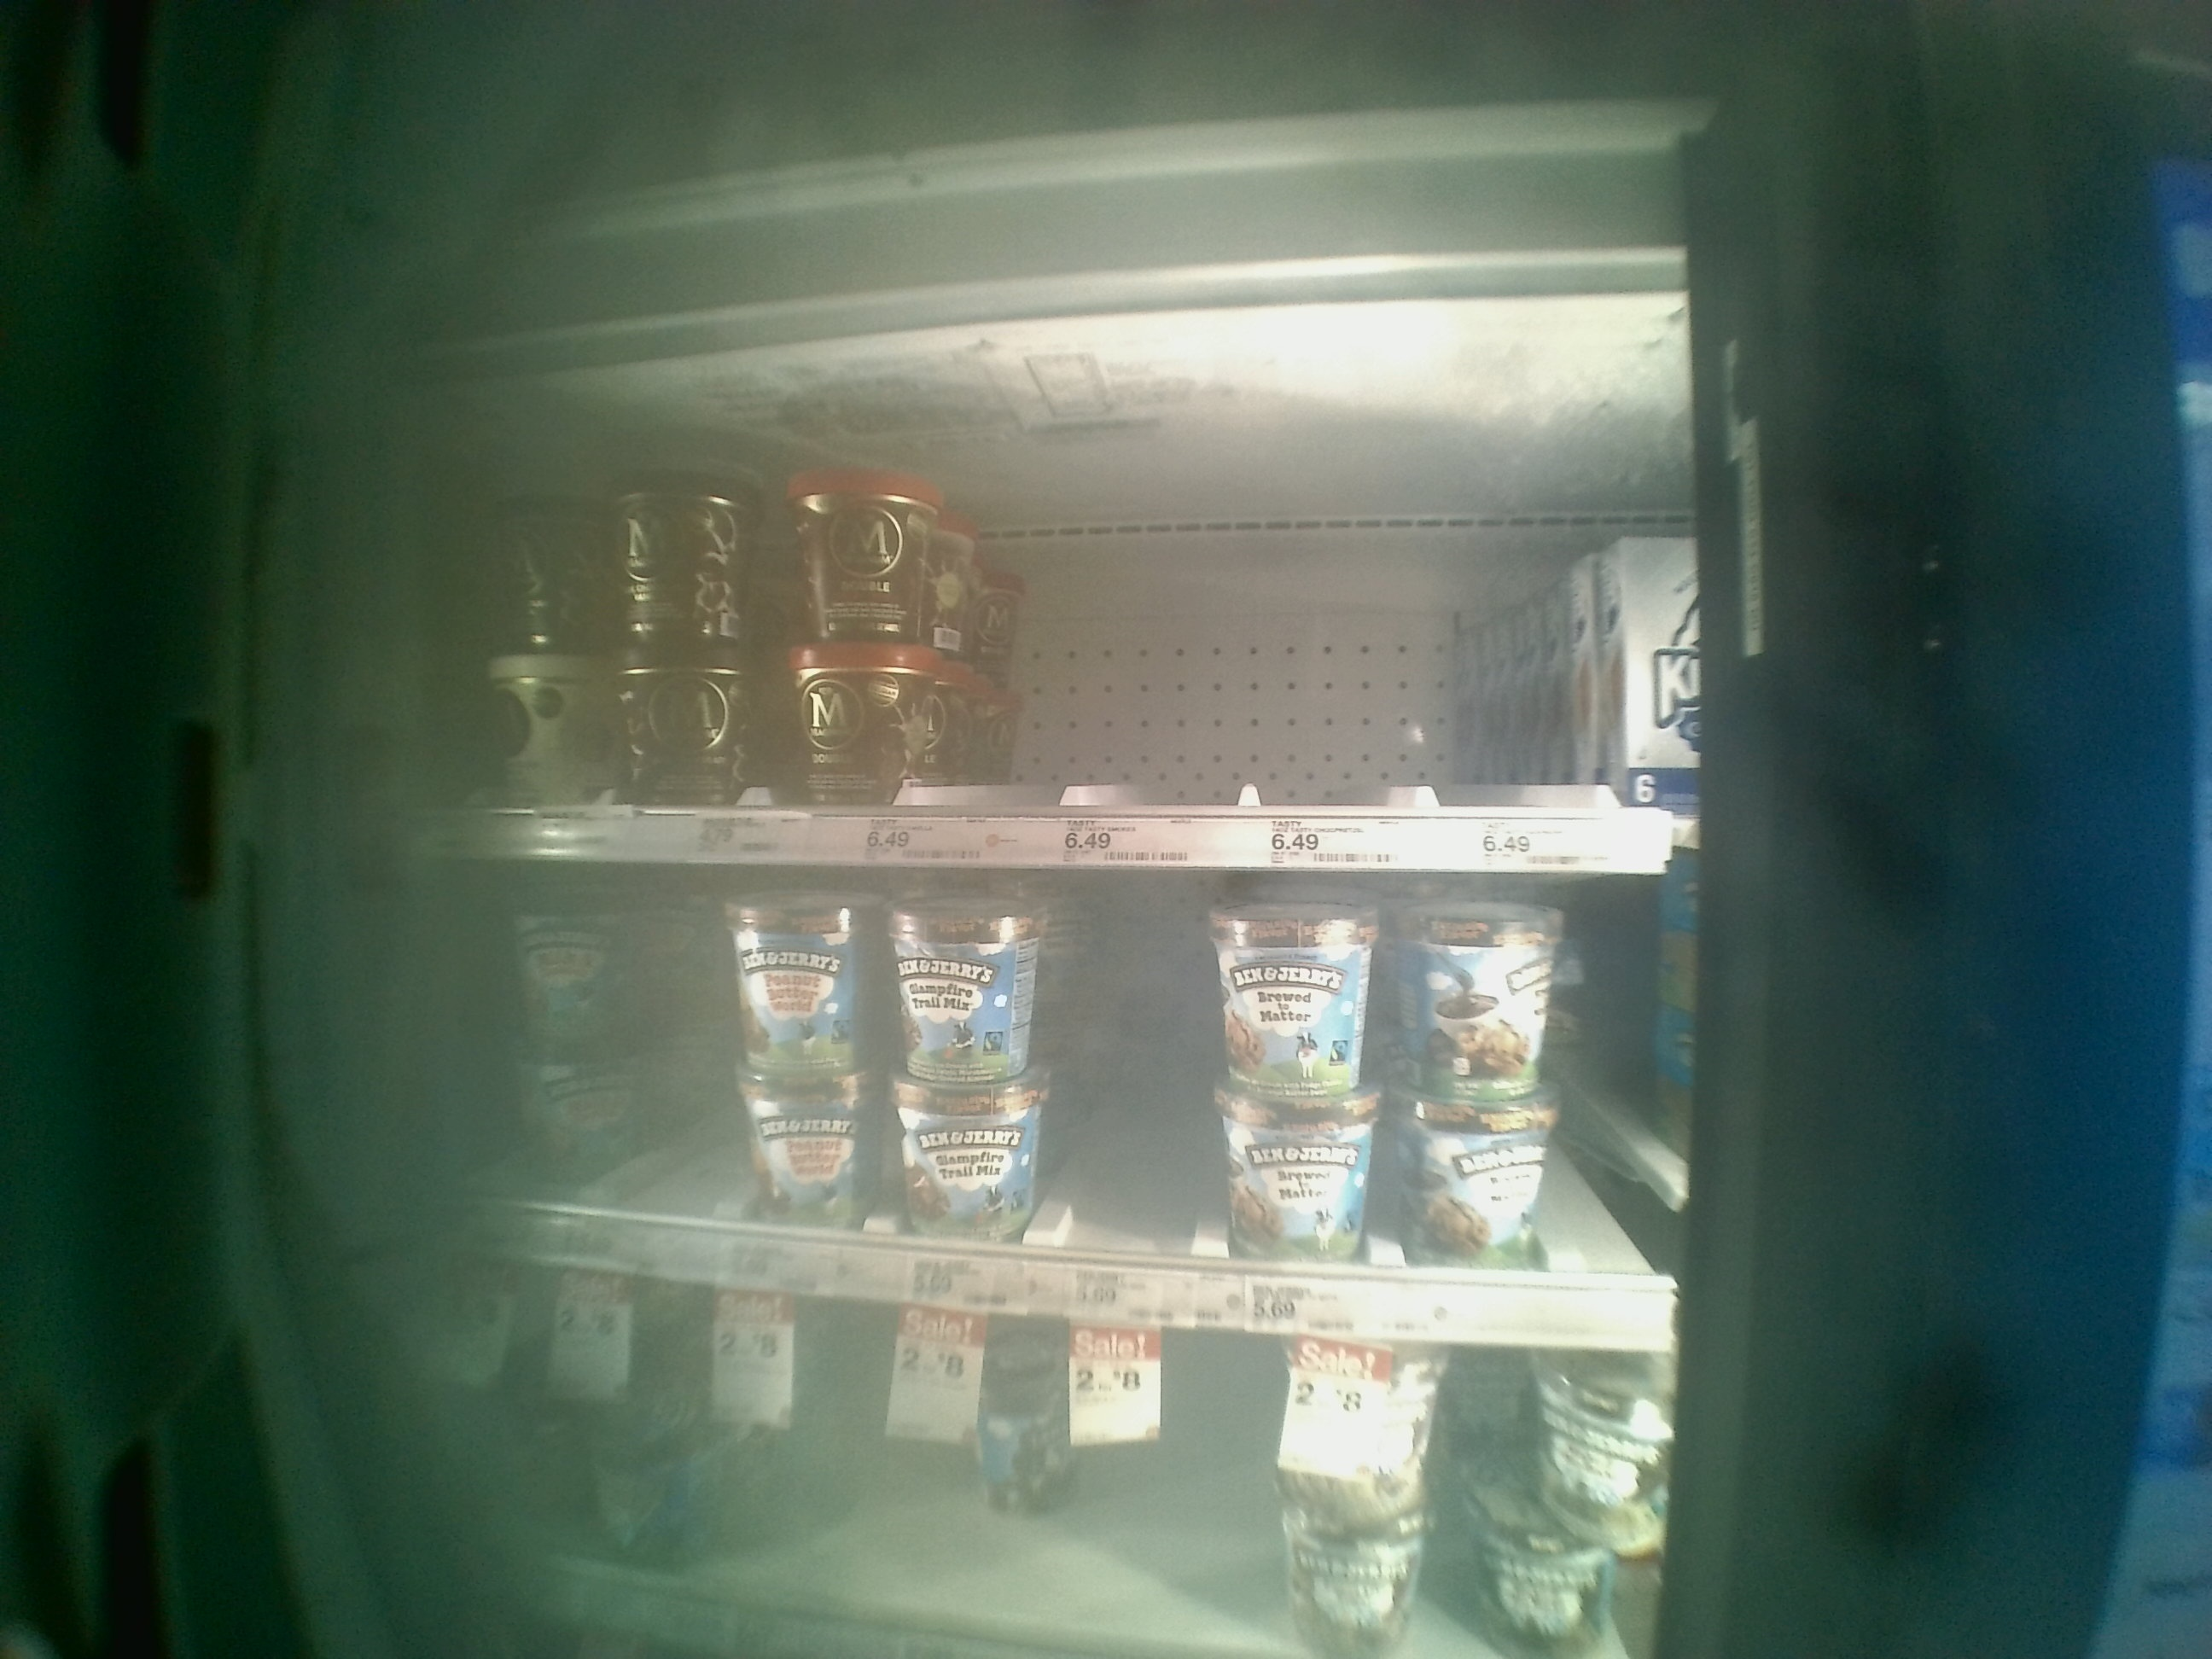ice-cream-shelf: (435, 870, 1689, 1364), (439, 416, 1709, 873)
